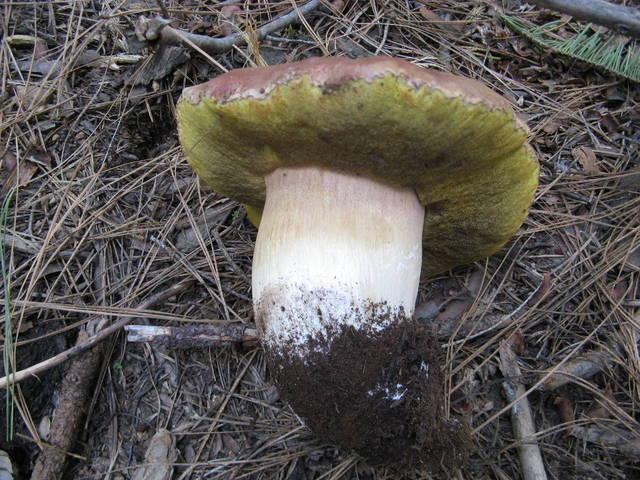edible_mushroom: (174, 52, 546, 457)
